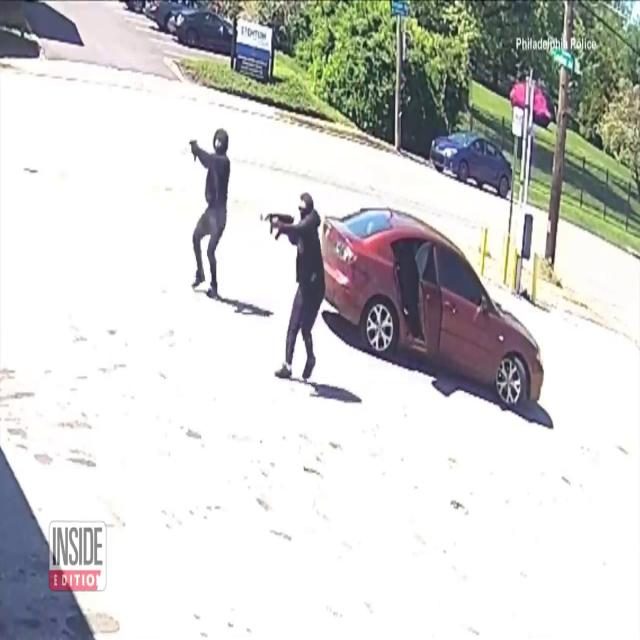penembakan: (258, 188, 328, 396), (185, 123, 233, 311)
